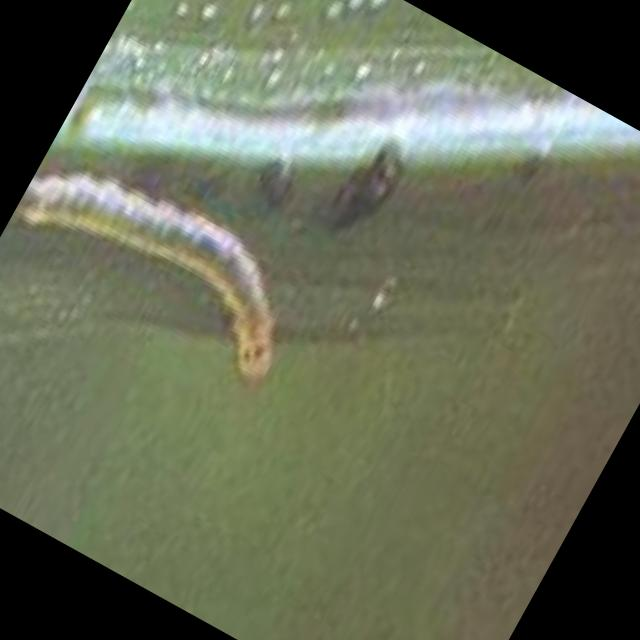leaf-folder: (0, 98, 346, 406)
